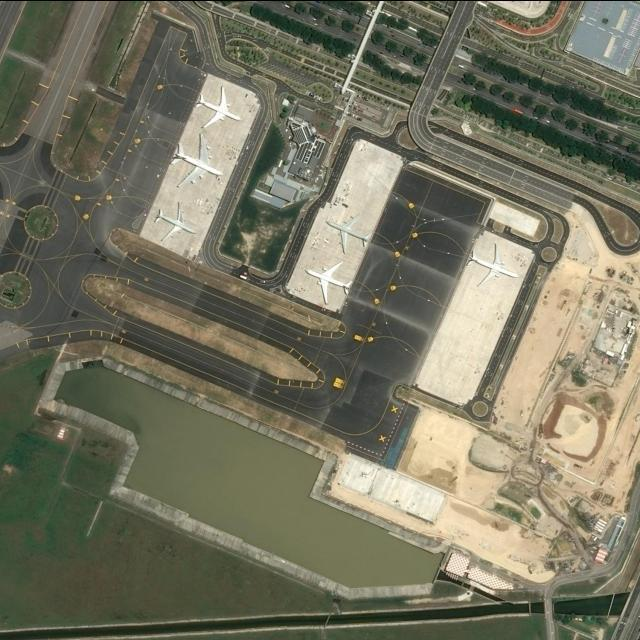Aircraft: (168, 134, 223, 188), (168, 134, 222, 188), (464, 243, 518, 291), (464, 243, 519, 288), (303, 260, 353, 304), (192, 86, 241, 130), (305, 262, 353, 304), (195, 86, 242, 128), (152, 202, 198, 244), (325, 213, 372, 254), (324, 213, 372, 253), (152, 202, 197, 243)
